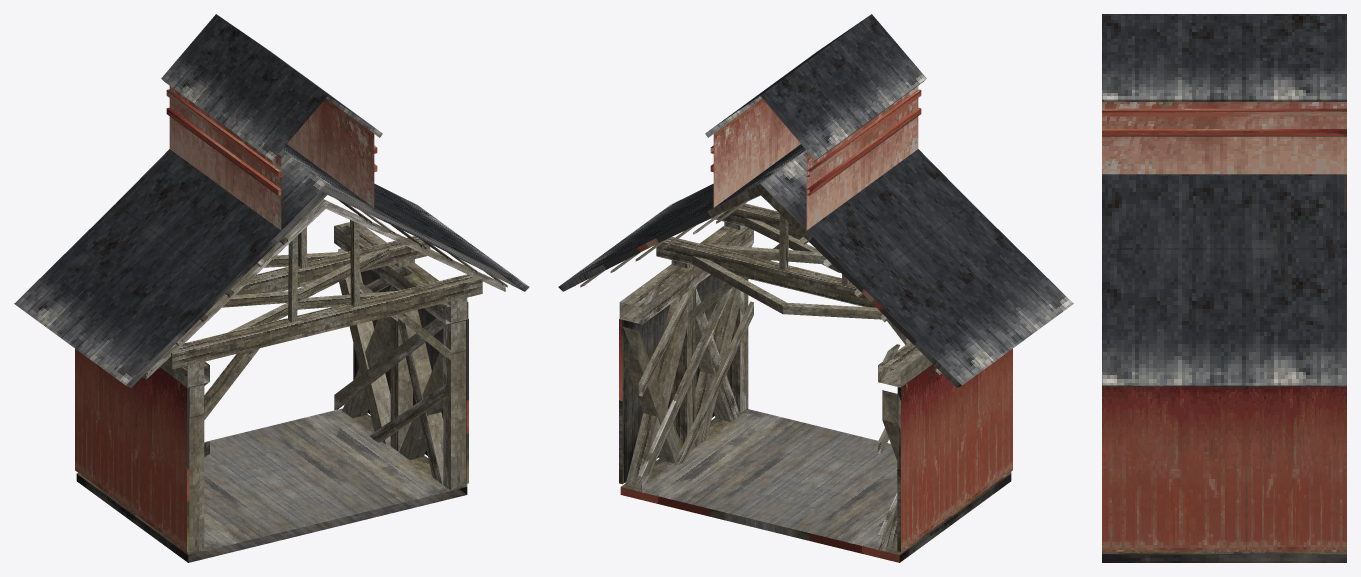
The model's file is 2_b3_first_left_02.glb.
3 views of the same model, side by side, from view 1: azimuth 30°, elevation 25°; view 2: azimuth 150°, elevation 25°; view 3: azimuth 270°, elevation 25° (orthographic). The views are drawn at different scales.
Parts seen in each view (by area): view 1: 2_b3_first_left_02; view 2: 2_b3_first_left_02; view 3: 2_b3_first_left_02.
Part boxes in pixels (box(x1,y1,x2,y2)): 2_b3_first_left_02: box(14, 14, 529, 562); 2_b3_first_left_02: box(558, 14, 1073, 562); 2_b3_first_left_02: box(1102, 14, 1346, 562).
Size of the model in its own units: 8.69 by 8.91 by 4.17.
Materials: 1 (1 with a texture image).
